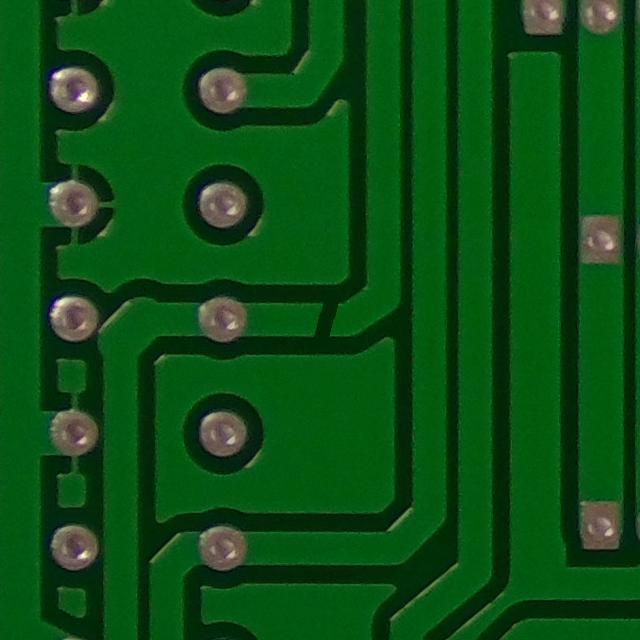open_circuit: (280, 292, 361, 349)
